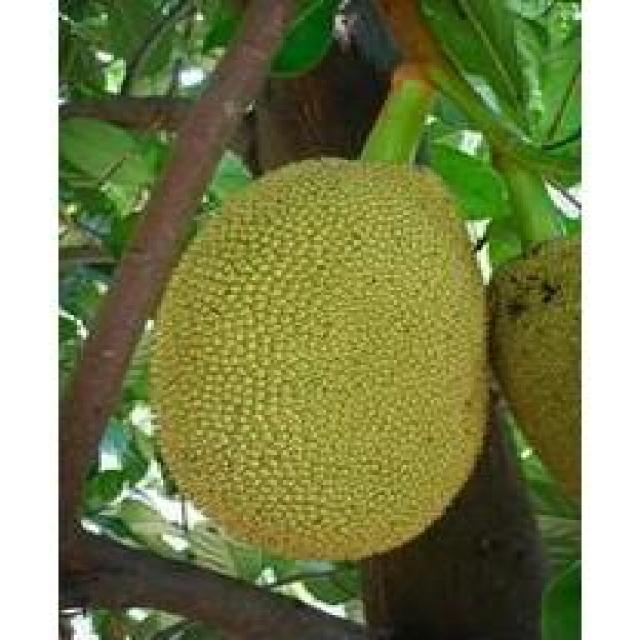Fruit: (123, 135, 526, 605)
